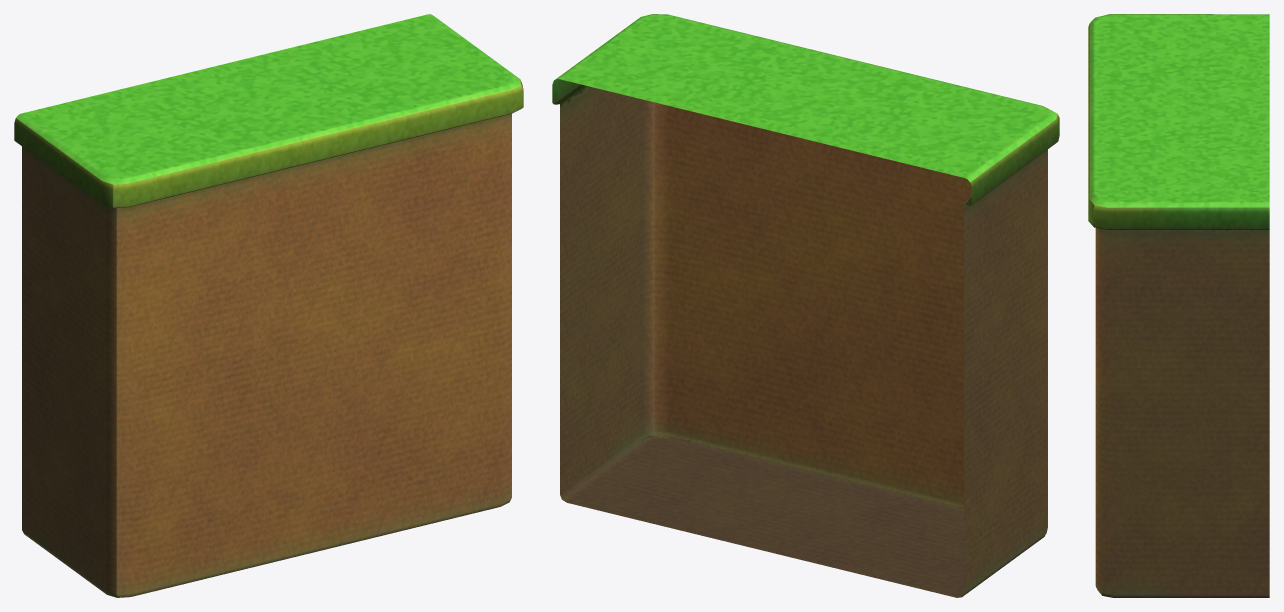
Rendered from JimenHi_B.fbx.
3 views of the same model, side by side, from view 1: azimuth 30°, elevation 25°; view 2: azimuth 150°, elevation 25°; view 3: azimuth 270°, elevation 25° (orthographic). The views are drawn at different scales.
Parts seen in each view (by area): view 1: StageHi; view 2: StageHi; view 3: StageHi.
Boxes of the visible parts, <box> form: StageHi: <box>14,14,523,597</box>; StageHi: <box>552,14,1059,597</box>; StageHi: <box>1088,14,1269,597</box>.
Bounding box in the file's own units: 13.27 × 12.76 × 5.25.
